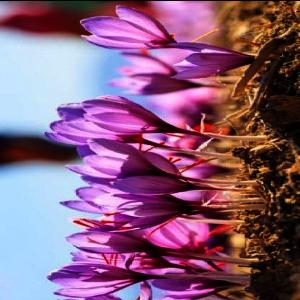Saffron: (44, 100, 151, 146), (80, 3, 184, 47), (66, 137, 166, 177), (62, 218, 167, 256), (114, 52, 202, 96), (82, 96, 176, 136), (110, 188, 195, 231), (49, 262, 155, 296), (172, 39, 260, 79)
